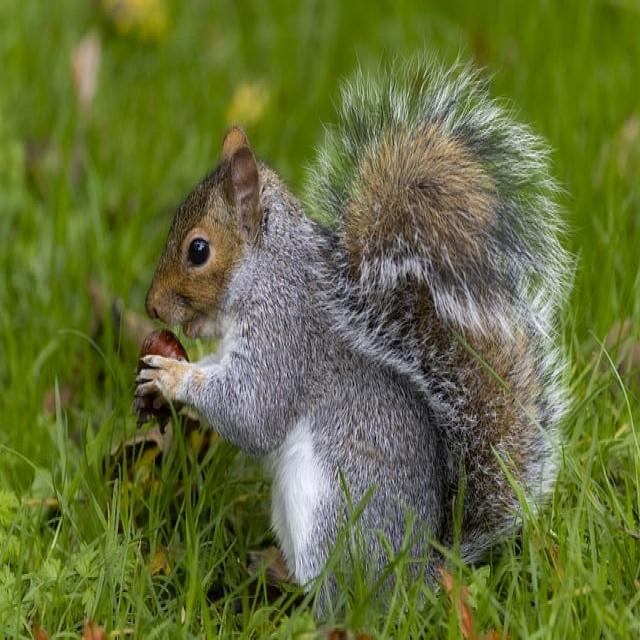Herbivorous: (134, 55, 574, 622)
